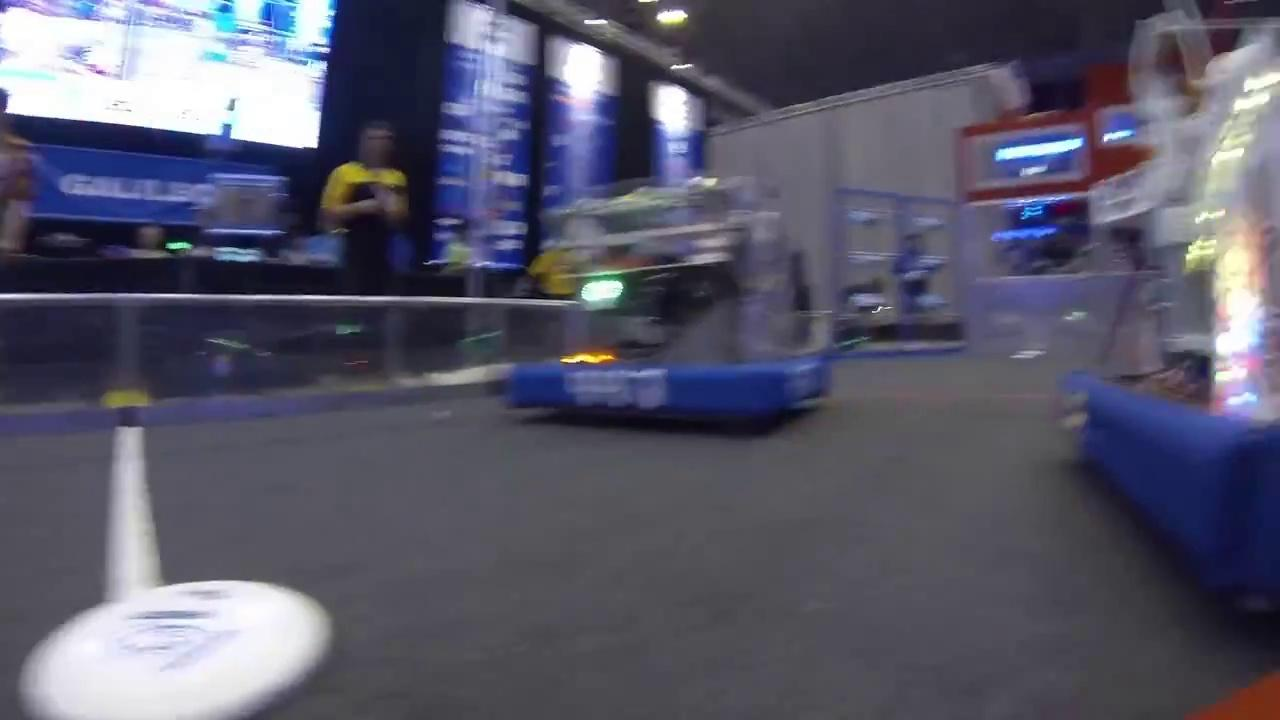robot: (1054, 0, 1280, 623), (502, 169, 845, 433)
